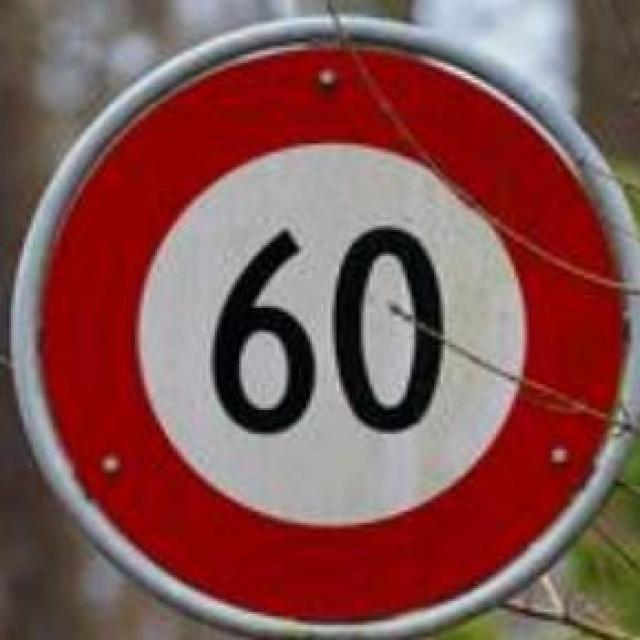speed limit 60: (37, 41, 627, 627)
